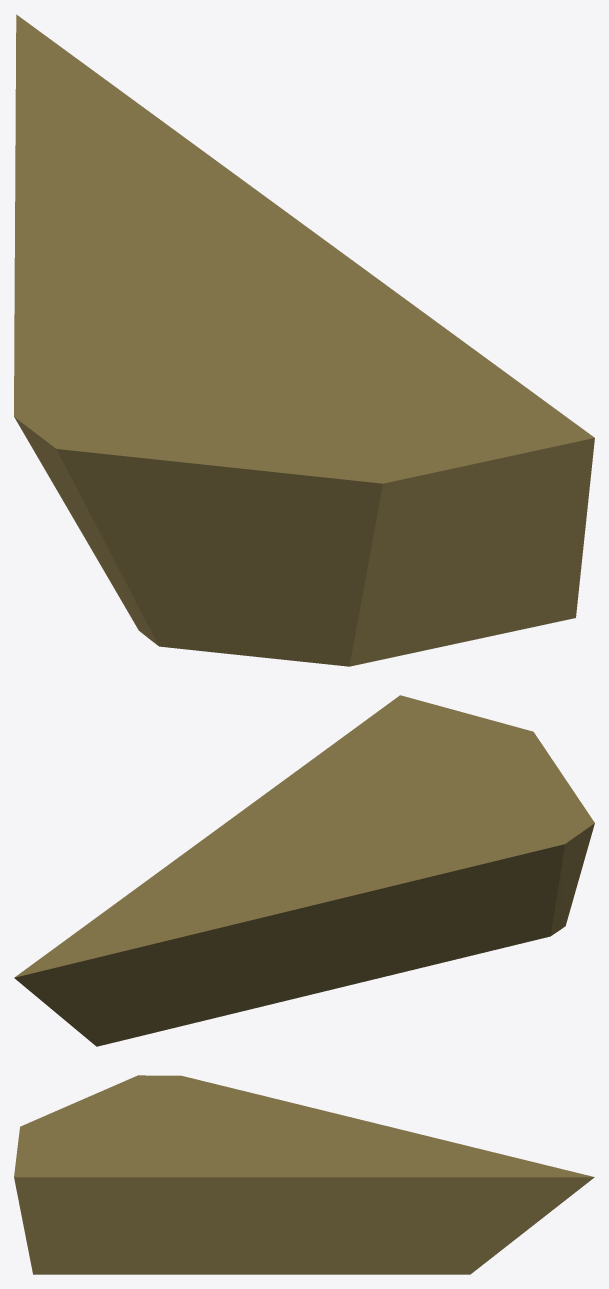
File: SinglePieceOfWood.fbx
The picture shows the model from 3 angles, top to bottom: view 1: azimuth 30°, elevation 25°; view 2: azimuth 150°, elevation 25°; view 3: azimuth 270°, elevation 25°; orthographic projection. The views are drawn at different scales.
Visible parts, largest first — view 1: WoodPlank.001_cell.002_cell; view 2: WoodPlank.001_cell.002_cell; view 3: WoodPlank.001_cell.002_cell.
Part boxes in pixels (<box>): WoodPlank.001_cell.002_cell: <box>14,14,594,666</box>; WoodPlank.001_cell.002_cell: <box>14,695,594,1046</box>; WoodPlank.001_cell.002_cell: <box>14,1075,594,1274</box>.
Bounding box in the file's own units: 44.8 × 20 × 108.
